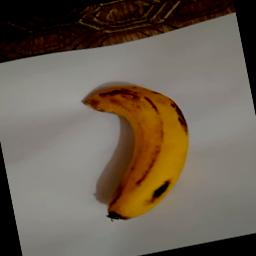Banana Unripe: (77, 70, 206, 227)
